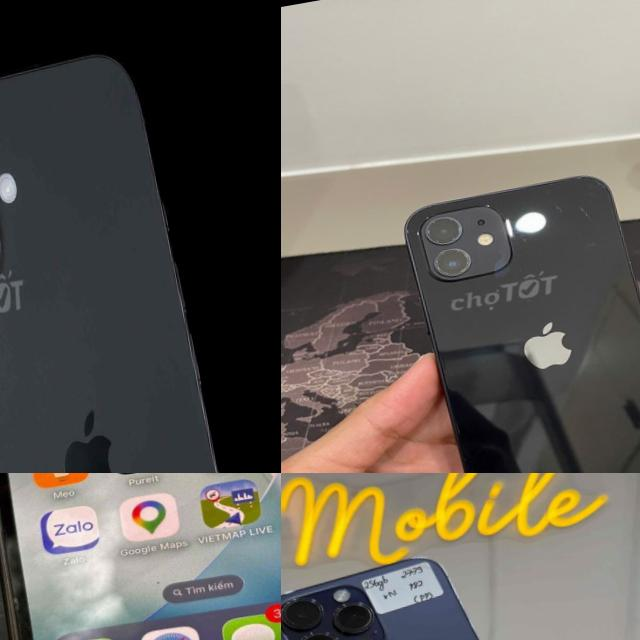gen_12_13: (393, 159, 640, 473), (0, 473, 281, 640)
gen_14: (281, 530, 576, 640)
gen_16: (0, 14, 248, 473)
